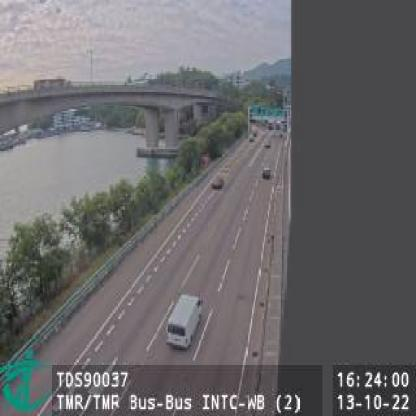Car: (164, 291, 205, 349), (211, 174, 224, 191), (263, 166, 272, 179)
